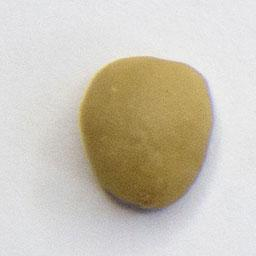defect: (74, 49, 222, 217)
